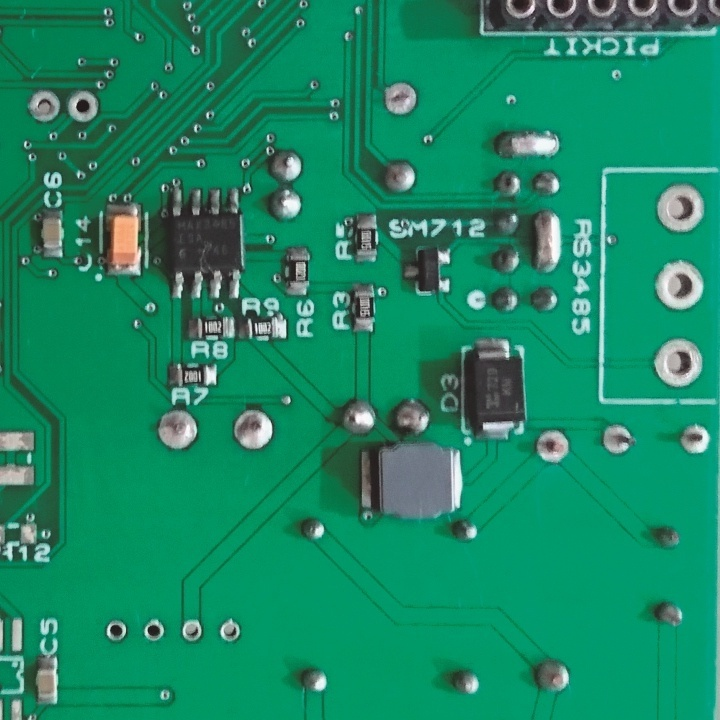F: (655, 256, 704, 315), (653, 336, 705, 389), (654, 184, 705, 233), (231, 405, 276, 452), (154, 408, 199, 452), (533, 426, 574, 466), (382, 77, 419, 119), (599, 421, 639, 459), (64, 86, 99, 126), (679, 420, 713, 457), (27, 89, 59, 126), (219, 618, 250, 643), (104, 618, 129, 646), (179, 618, 204, 646), (141, 620, 167, 646)
P: (491, 125, 564, 163), (533, 203, 564, 278)
